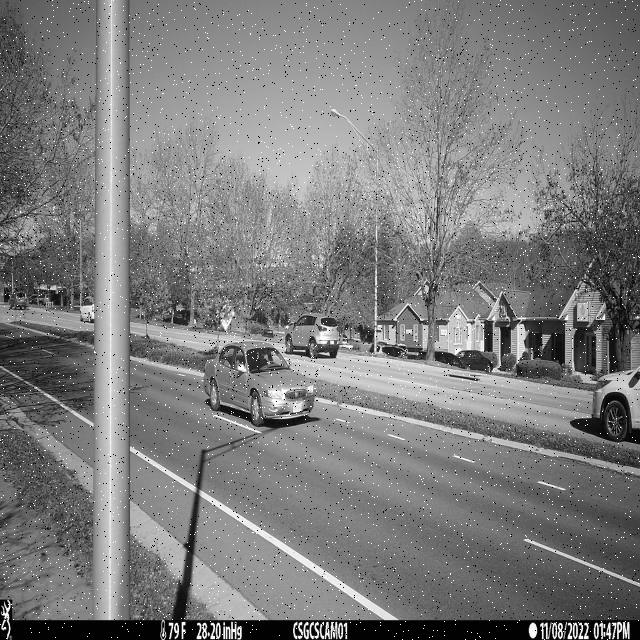Sedan: (202, 340, 317, 427)
